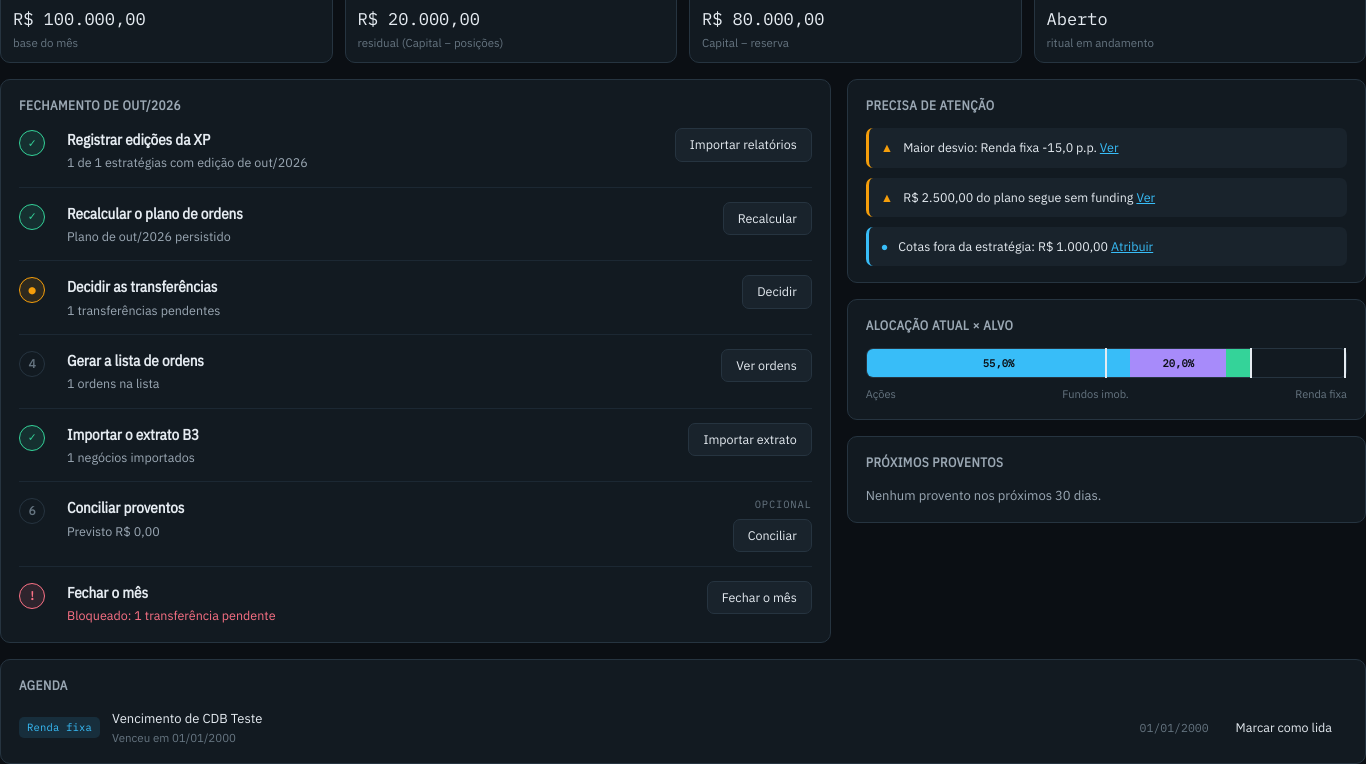
it: Cockpit › removes an agenda item once it is marked read
(page scrolled)
Expected: the link "Vencimento de CDB Teste" is shown, [112, 710, 262, 727]
What coordinates should you click on to do the following:
click the button "Marcar como lida"
I would click on:
 (1284, 727)
Its box is [1221, 711, 1347, 744].
(page scrolled)
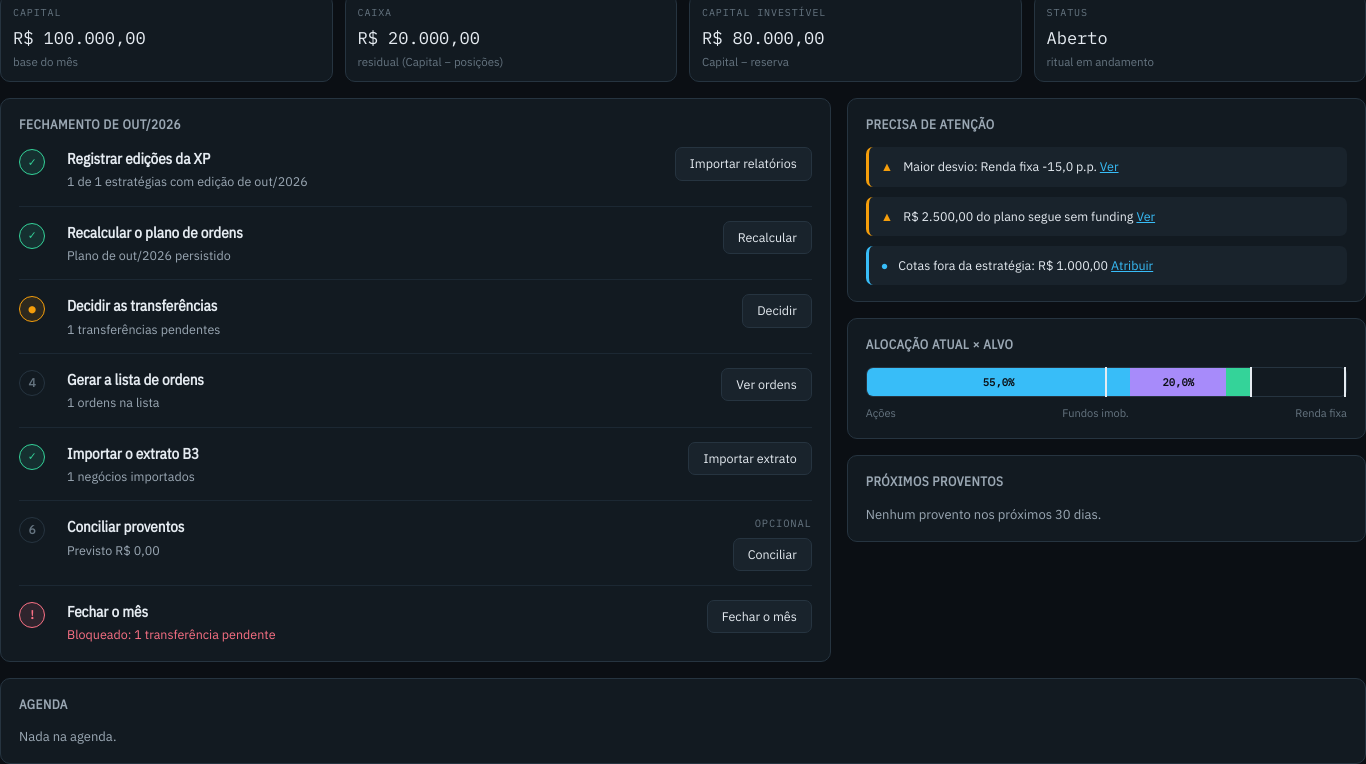
Expected: the link "Vencimento de CDB Teste" is gone
Expected: the text "Nada na agenda." is shown, [19, 728, 116, 745]
